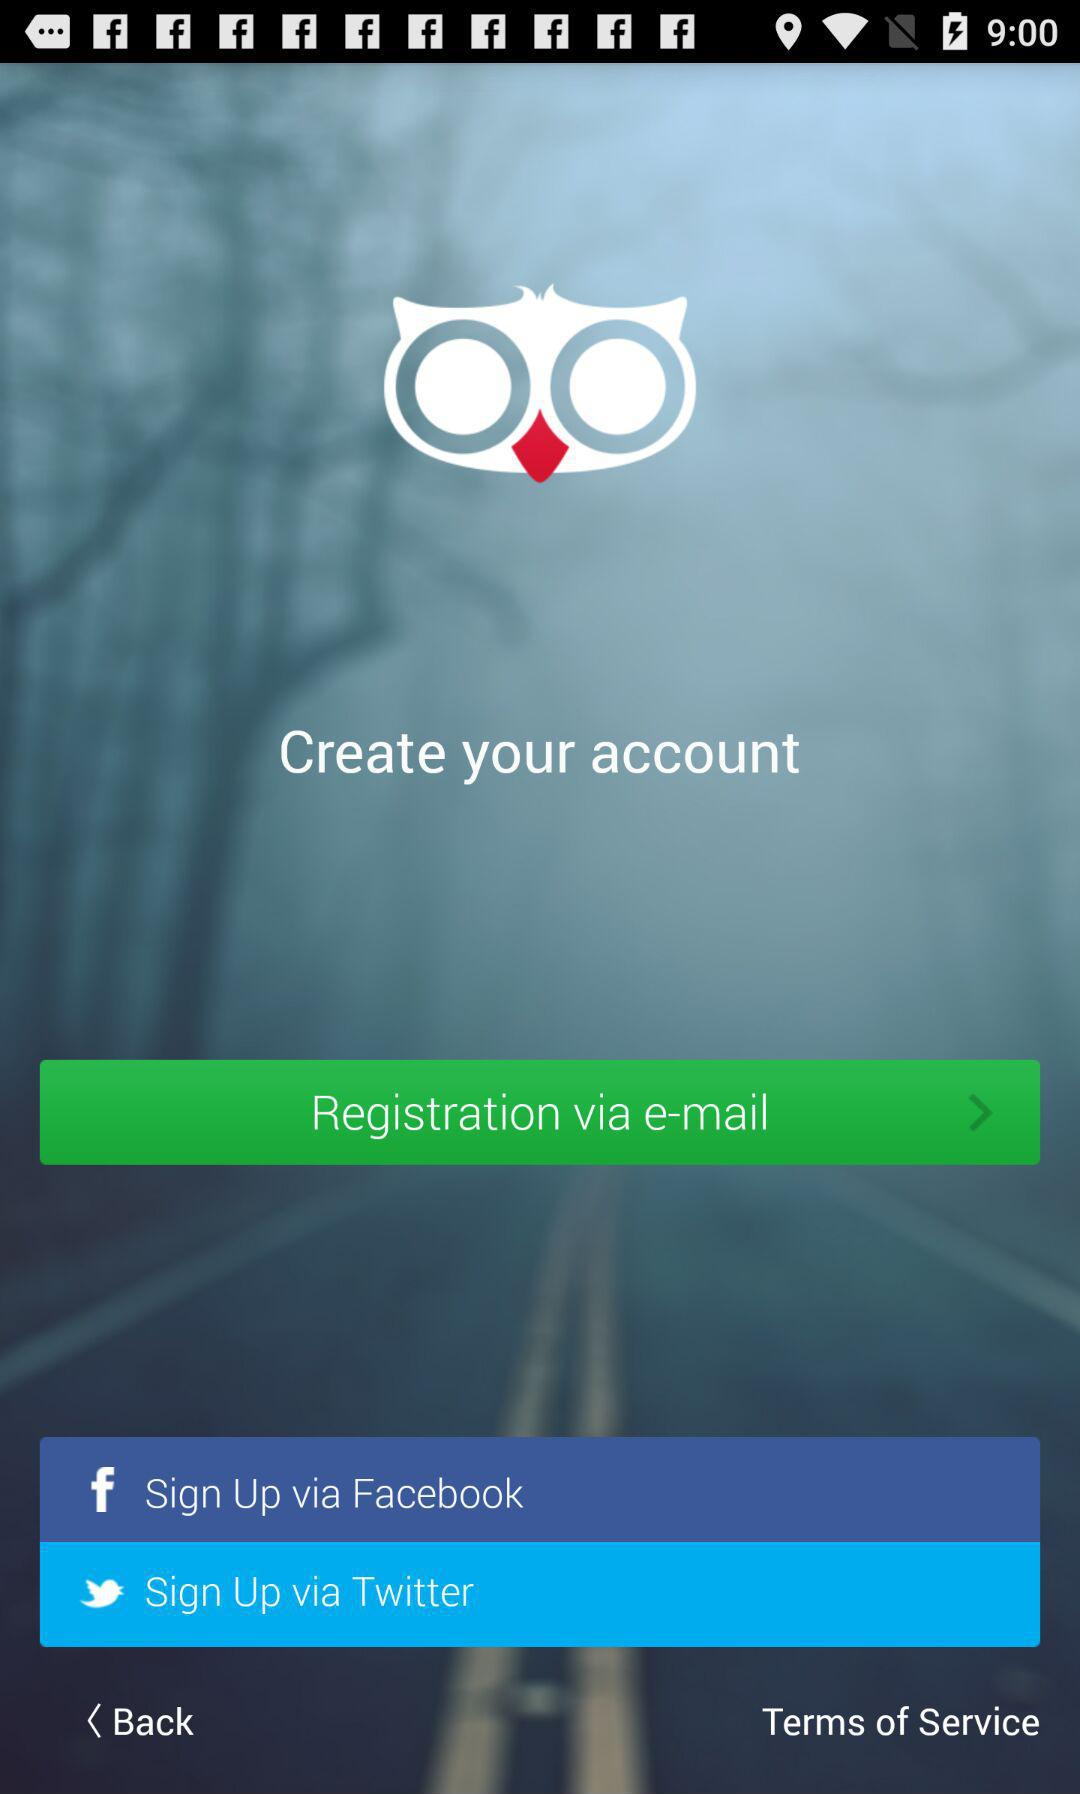Icon: (87, 1703, 102, 1739)
Image: (382, 283, 698, 484)
Text: (281, 730, 802, 788), (762, 1704, 1040, 1738), (115, 1706, 196, 1739)
TextButton: (40, 1542, 1040, 1648), (40, 1060, 1040, 1166), (40, 1436, 1040, 1542)
UpperTaskBar: (1, 1, 1080, 64)
